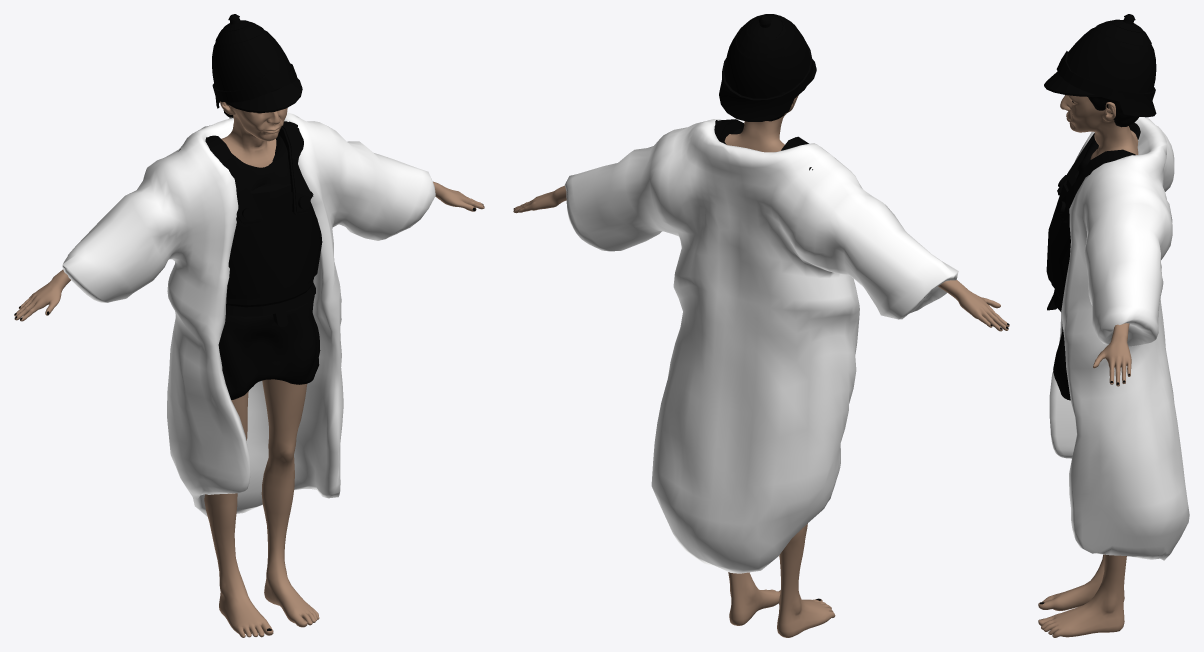
The model's file is SM_Bodo_Guard_Outfit_LP.fbx.
3 renders of one model, left to right at view 1: azimuth 30°, elevation 25°; view 2: azimuth 150°, elevation 25°; view 3: azimuth 270°, elevation 25°, orthographic. The views are drawn at different scales.
Parts seen in each view (by area): view 1: SM_Bodo_Robe_LP, SM_Bodo_Clothed_LP1; view 2: SM_Bodo_Robe_LP, SM_Bodo_Clothed_LP1; view 3: SM_Bodo_Robe_LP, SM_Bodo_Clothed_LP1.
Part boxes in pixels (bbox=[...]): SM_Bodo_Robe_LP: bbox=[62, 112, 435, 516]; SM_Bodo_Clothed_LP1: bbox=[14, 14, 484, 637]; SM_Bodo_Robe_LP: bbox=[564, 119, 958, 573]; SM_Bodo_Clothed_LP1: bbox=[513, 14, 1009, 637]; SM_Bodo_Robe_LP: bbox=[1049, 117, 1189, 560]; SM_Bodo_Clothed_LP1: bbox=[1038, 14, 1156, 637].
Size of the model in its own units: 134 by 161 by 36.74.
